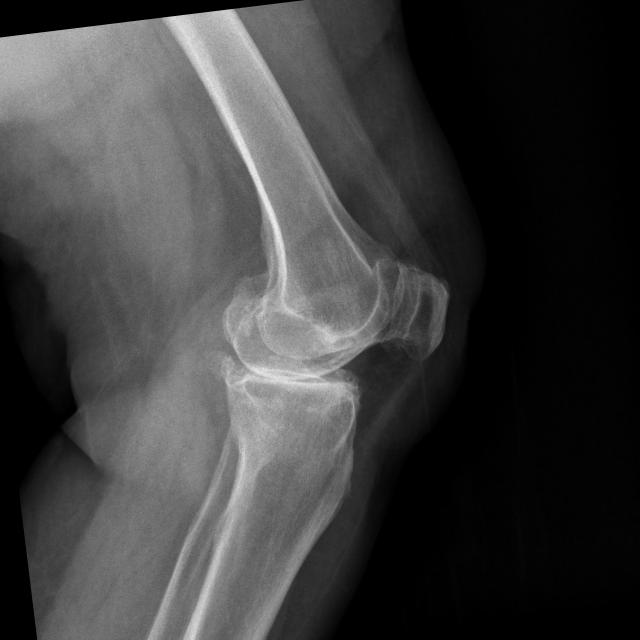Knee: (199, 226, 466, 443)
